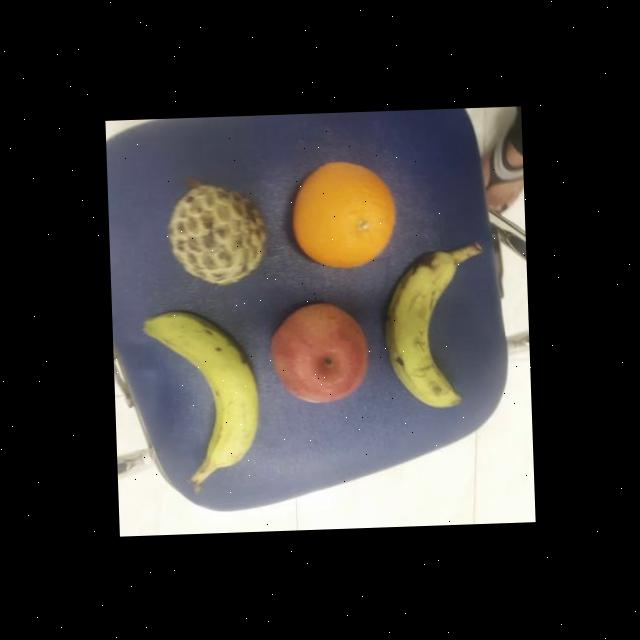Sakya fruit: (163, 177, 272, 285)
apple: (265, 298, 371, 406)
banana: (142, 306, 263, 494), (378, 244, 482, 413)
orange: (288, 155, 400, 272)
